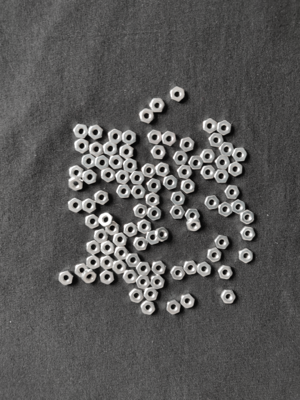nut: (139, 108, 155, 124), (170, 86, 185, 103), (217, 120, 232, 136), (203, 118, 218, 134), (73, 124, 89, 139), (88, 125, 104, 140), (108, 129, 123, 145), (215, 155, 231, 170), (155, 162, 171, 177), (82, 170, 98, 185), (224, 185, 240, 200), (94, 190, 110, 205), (82, 198, 97, 214), (239, 248, 254, 264), (170, 266, 186, 281), (209, 133, 224, 148), (180, 137, 195, 152), (162, 131, 177, 146), (122, 130, 137, 145), (219, 142, 234, 157), (75, 139, 90, 154), (201, 165, 216, 180), (109, 155, 124, 170), (116, 170, 131, 185), (101, 168, 116, 183), (163, 175, 178, 190), (181, 179, 196, 194), (171, 191, 186, 206), (240, 210, 255, 225), (147, 206, 162, 221), (105, 221, 120, 236), (94, 229, 109, 244), (113, 233, 128, 248), (181, 294, 196, 309), (152, 261, 167, 276), (86, 240, 101, 255), (59, 271, 74, 286), (75, 263, 90, 278), (82, 269, 97, 284), (100, 270, 115, 285), (129, 289, 144, 304), (141, 301, 156, 316), (151, 146, 167, 160), (232, 148, 248, 162), (173, 151, 189, 165), (200, 149, 216, 163), (214, 170, 230, 184), (177, 165, 193, 179), (95, 155, 109, 171), (116, 185, 132, 199), (219, 202, 233, 218), (232, 199, 246, 215), (240, 227, 256, 241), (85, 214, 99, 230), (124, 222, 138, 238), (133, 237, 149, 251), (214, 236, 230, 250), (150, 98, 165, 112), (148, 130, 162, 145), (120, 144, 134, 159), (103, 142, 118, 156), (90, 142, 104, 157), (189, 156, 204, 170), (229, 162, 243, 177), (142, 164, 157, 178), (123, 159, 138, 173), (82, 154, 96, 169), (130, 171, 145, 185), (69, 177, 84, 191), (147, 179, 162, 193), (131, 185, 146, 199), (187, 218, 202, 232), (205, 196, 220, 210), (146, 193, 160, 208), (134, 204, 148, 219), (68, 198, 82, 213), (99, 213, 114, 227), (137, 220, 152, 234), (155, 227, 169, 242), (208, 248, 222, 263), (218, 266, 233, 280), (221, 290, 236, 304), (198, 262, 212, 277), (184, 260, 198, 275), (167, 300, 181, 315), (101, 241, 115, 256), (136, 262, 151, 276), (86, 256, 101, 270), (100, 256, 114, 271), (112, 261, 127, 275), (123, 270, 138, 284), (136, 275, 151, 289), (144, 287, 159, 301), (170, 206, 186, 219), (114, 247, 130, 260), (151, 276, 165, 290), (69, 165, 84, 178), (126, 254, 141, 267), (146, 231, 159, 245), (185, 209, 201, 220)
